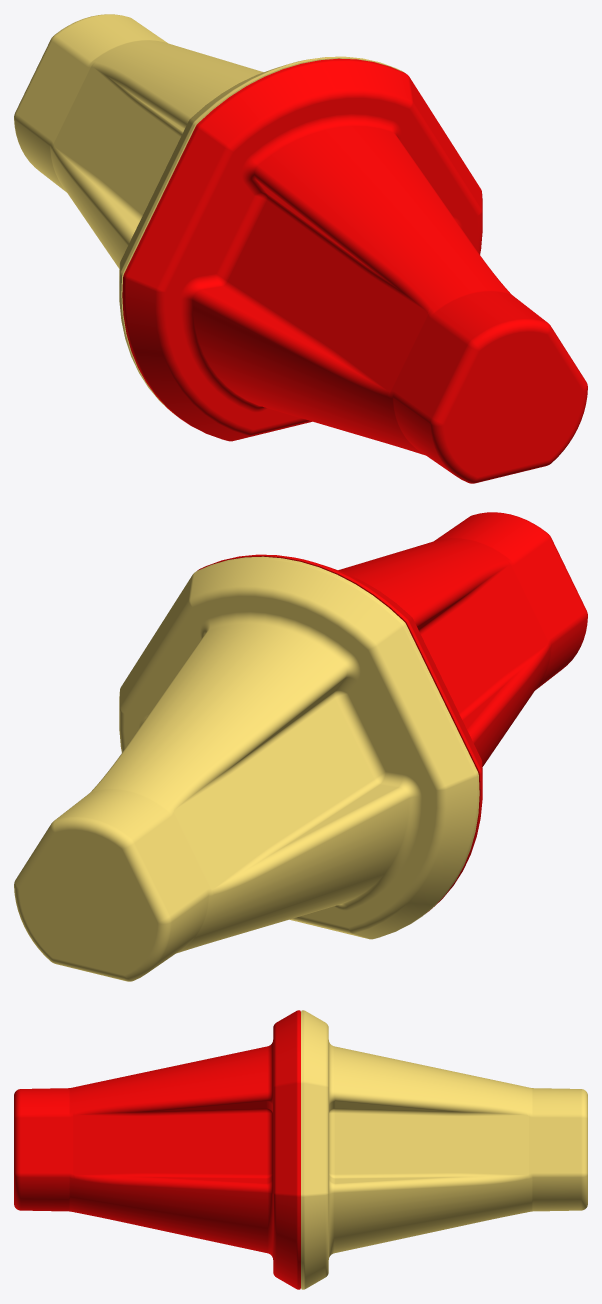
Rendered from pin-red-yellow.glb.
3 renders of one model, top to bottom at view 1: azimuth 30°, elevation 25°; view 2: azimuth 150°, elevation 25°; view 3: azimuth 270°, elevation 25°, orthographic. The views are drawn at different scales.
Visible parts, largest first — view 1: Pin Half (×2); view 2: Pin Half (×2); view 3: Pin Half (×2).
Part boxes in pixels (box(x1,y1,x2,y2)): Pin Half (×2): box(14, 14, 587, 483); Pin Half (×2): box(14, 512, 587, 981); Pin Half (×2): box(14, 1010, 587, 1289).
Size of the model in its own units: 0.0803 by 0.0768 by 0.165.
